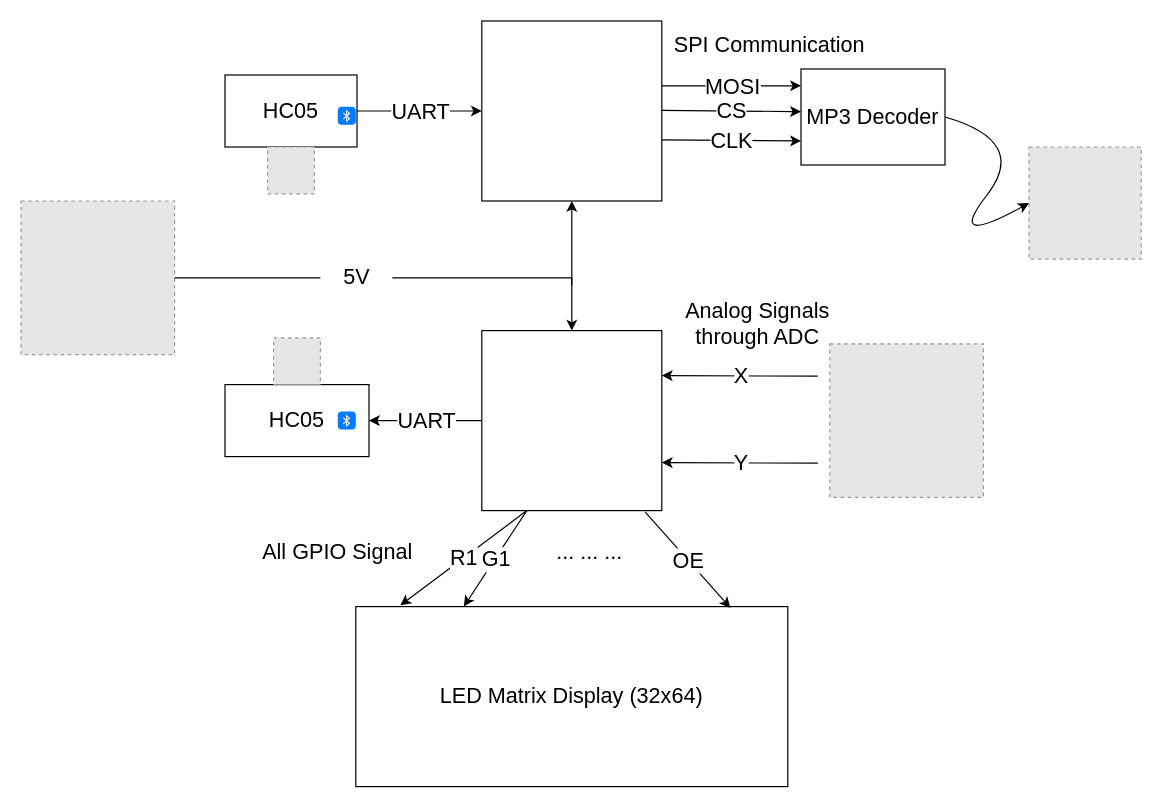
Some shapes in this 1163 by 808 pixel diagram are drawn without their labels. Grey dashed boxes stand in for pictures. The centre of each missing label's shape, as x and y in pixels:
"SJ2 (1)" belongs at point (571, 420).
"SJ2 (2)" belongs at point (571, 110).
